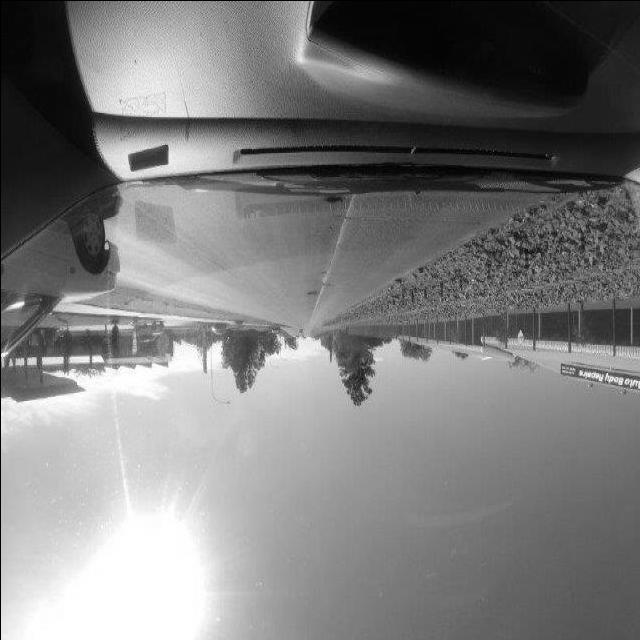lubang: (319, 189, 356, 211), (308, 284, 325, 302)
